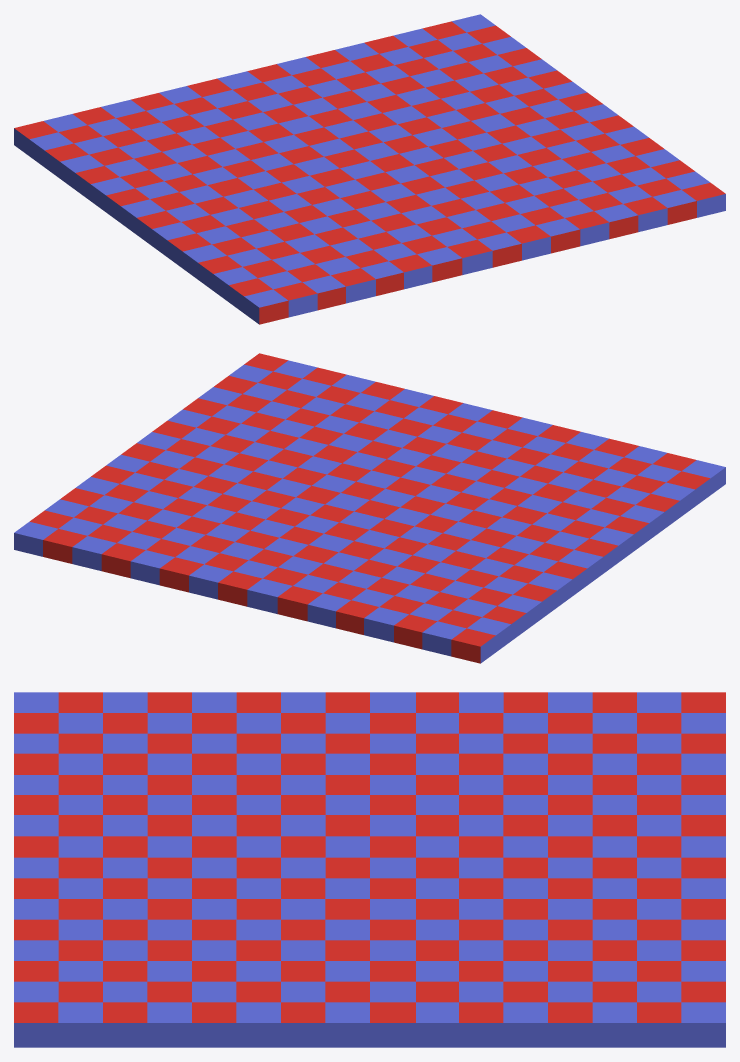
Rendered from ENVIRONMENT_PARTY_FLOOR.fbx.
3 renders of one model, top to bottom at view 1: azimuth 30°, elevation 25°; view 2: azimuth 150°, elevation 25°; view 3: azimuth 270°, elevation 25°, orthographic. The views are drawn at different scales.
Visible parts, largest first — view 1: Cube; view 2: Cube; view 3: Cube.
Boxes of the visible parts, box(x1,y1,x2,y2) form: Cube: box(14, 14, 725, 324); Cube: box(14, 353, 725, 663); Cube: box(14, 692, 725, 1047).
Size of the model in its own units: 1717 by 59.76 by 1564.
